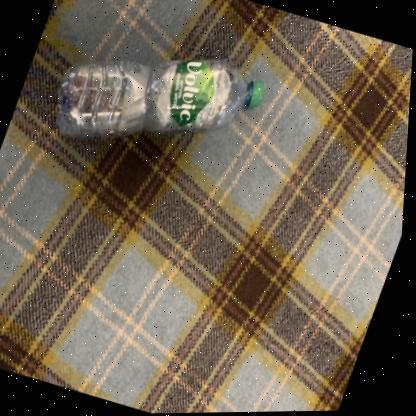Plastic: (58, 58, 264, 136)
